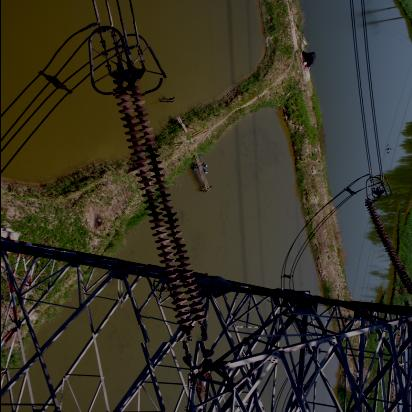insulator: (115, 78, 208, 344), (370, 194, 412, 304)
